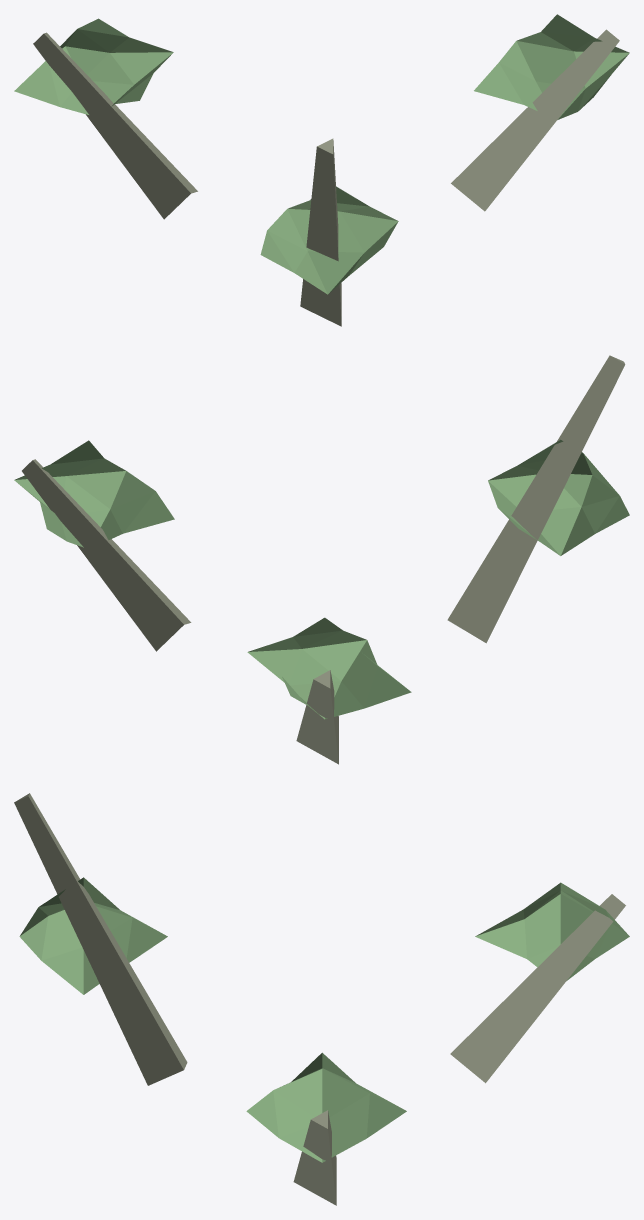
Rendered from bramble_v48.glb.
3 renders of one model, top to bottom at view 1: azimuth 30°, elevation 25°; view 2: azimuth 150°, elevation 25°; view 3: azimuth 270°, elevation 25°, orthographic. The views are drawn at different scales.
Parts seen in each view (by area): view 1: lod0; view 2: lod0; view 3: lod0.
Boxes of the visible parts, x1,y1,x2,y2 form: lod0: (14,14,629,326); lod0: (14,355,629,764); lod0: (14,793,629,1205).
Size of what is drawn, in the model's own units: 0.5247 by 0.2511 by 0.5367.
